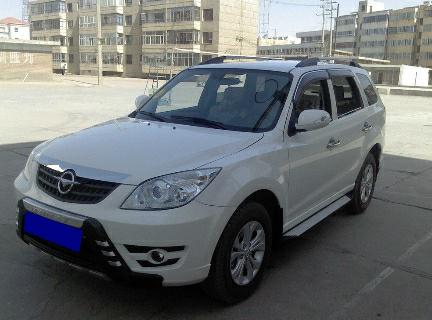悍马-H3: (10, 52, 395, 302)
